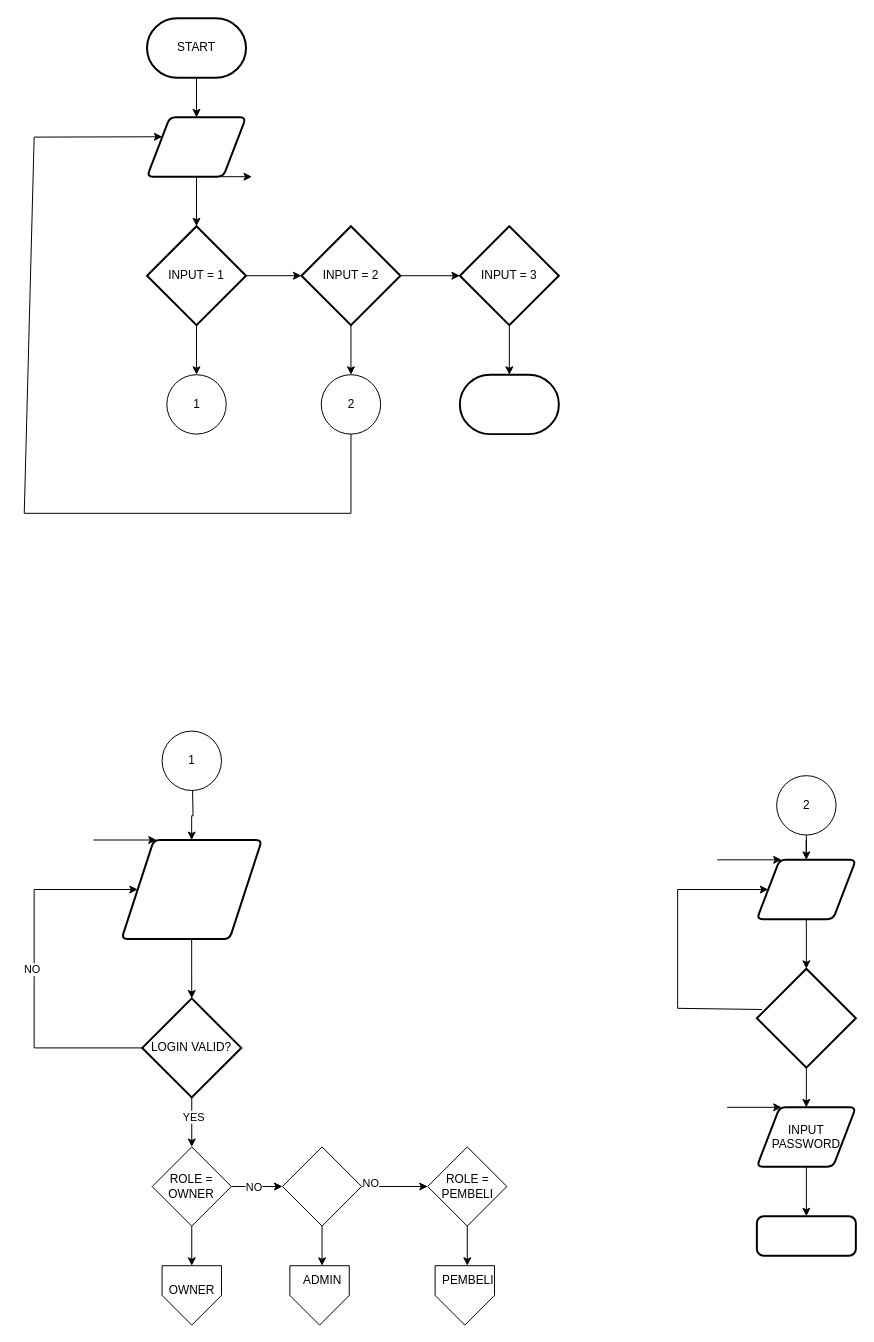
Image size: 874x1342. Some labels were removed from this diagram. The centre of each missing label's shape, as x and y in pixels:
1.LOGIN 2.REG 3.KELUAR: point (196, 146)
APAKAH USER TERSEDIA?: point (805, 1017)
END: point (508, 404)
INPUT USER: point (805, 889)
INPUT USER DAN PASSWORD: point (191, 889)
ROLE = ADMIN: point (321, 1186)
TAMBAH USER BARU: point (805, 1235)
